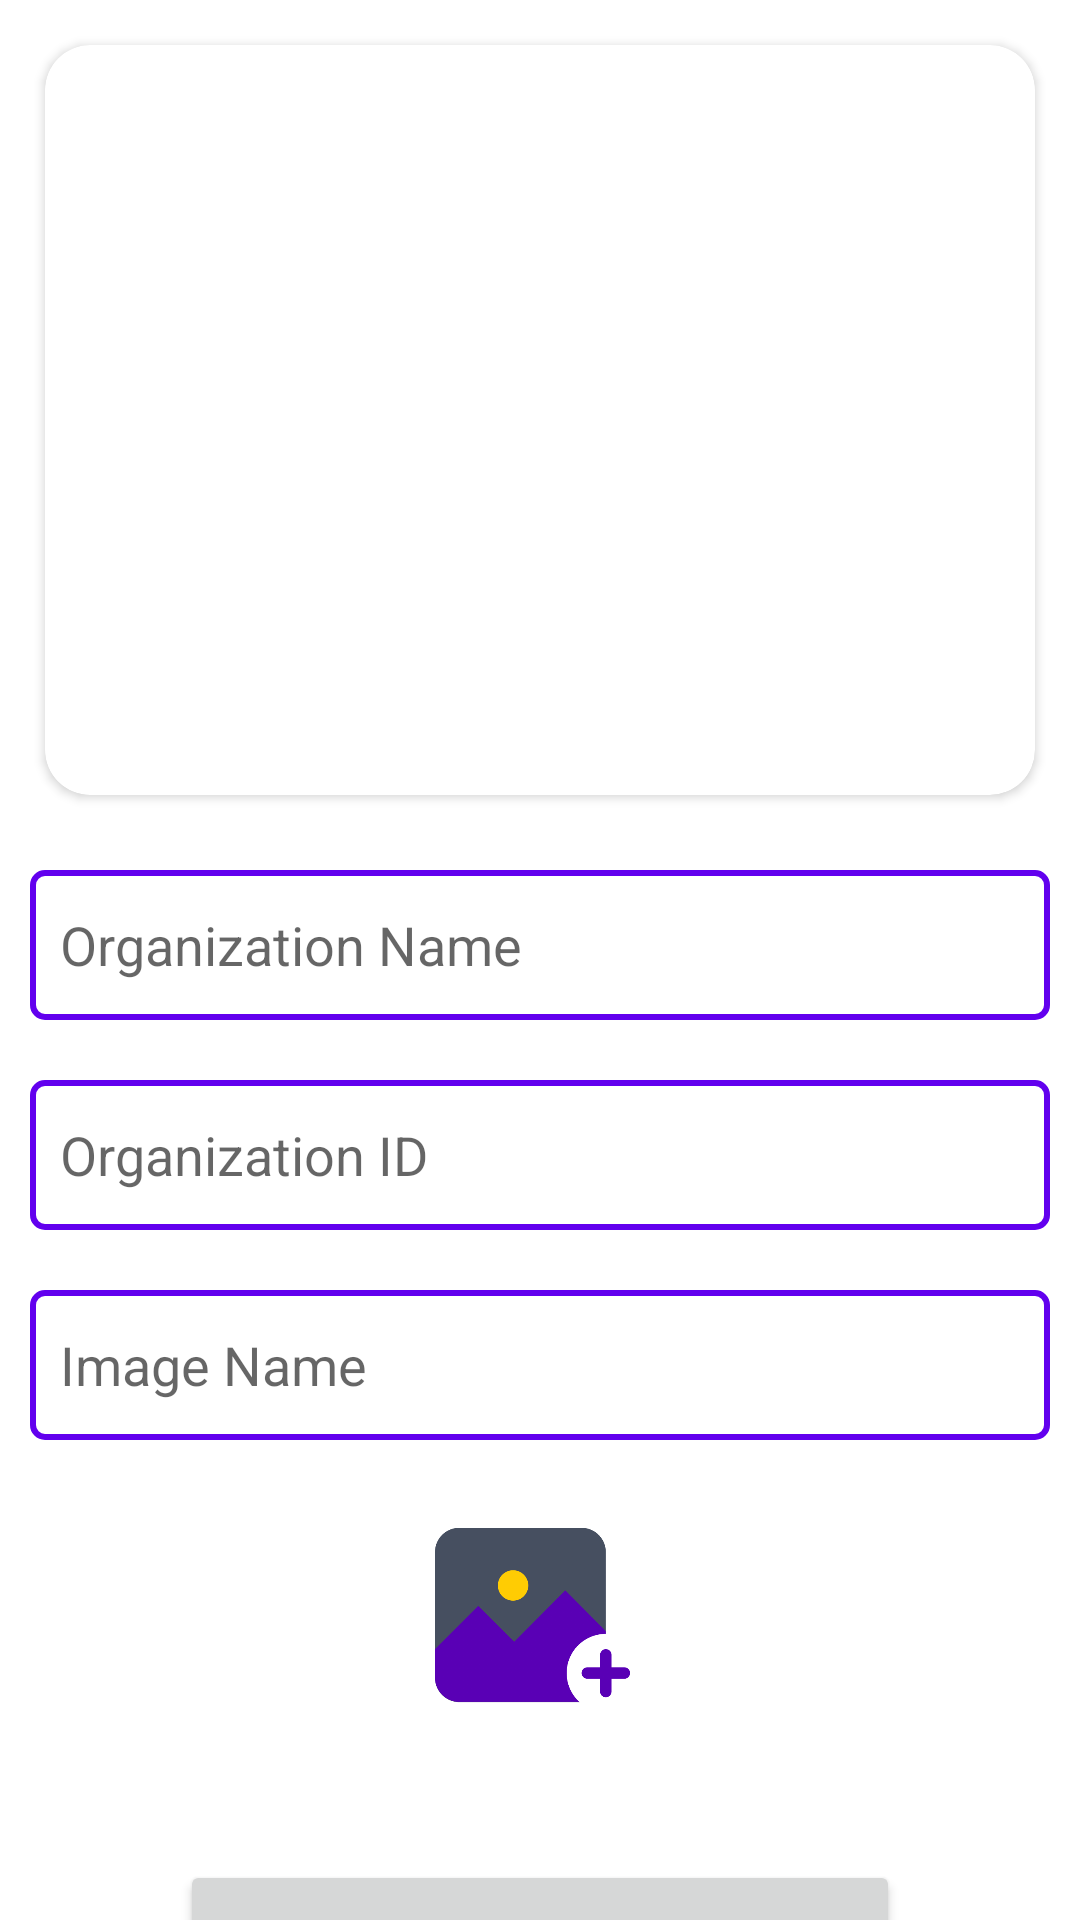

Named icons in this screenshot (1080 × 1920) and their centers, (x,y):
addimage: (532,1615)
